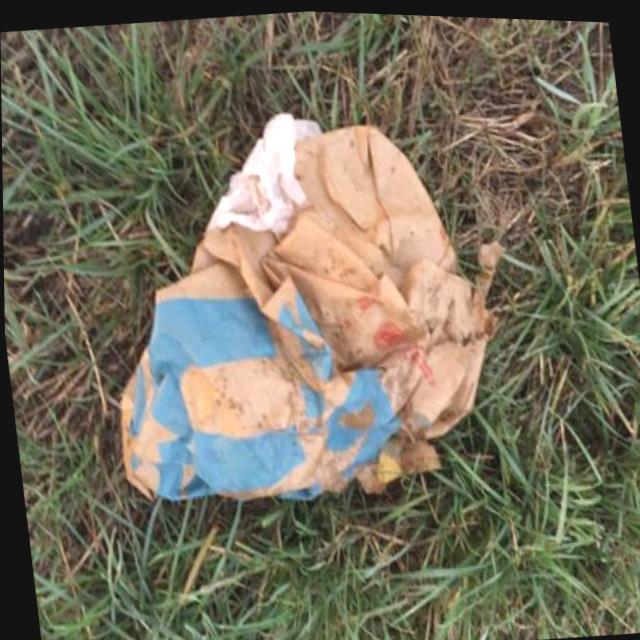Paper: (79, 95, 537, 522)
